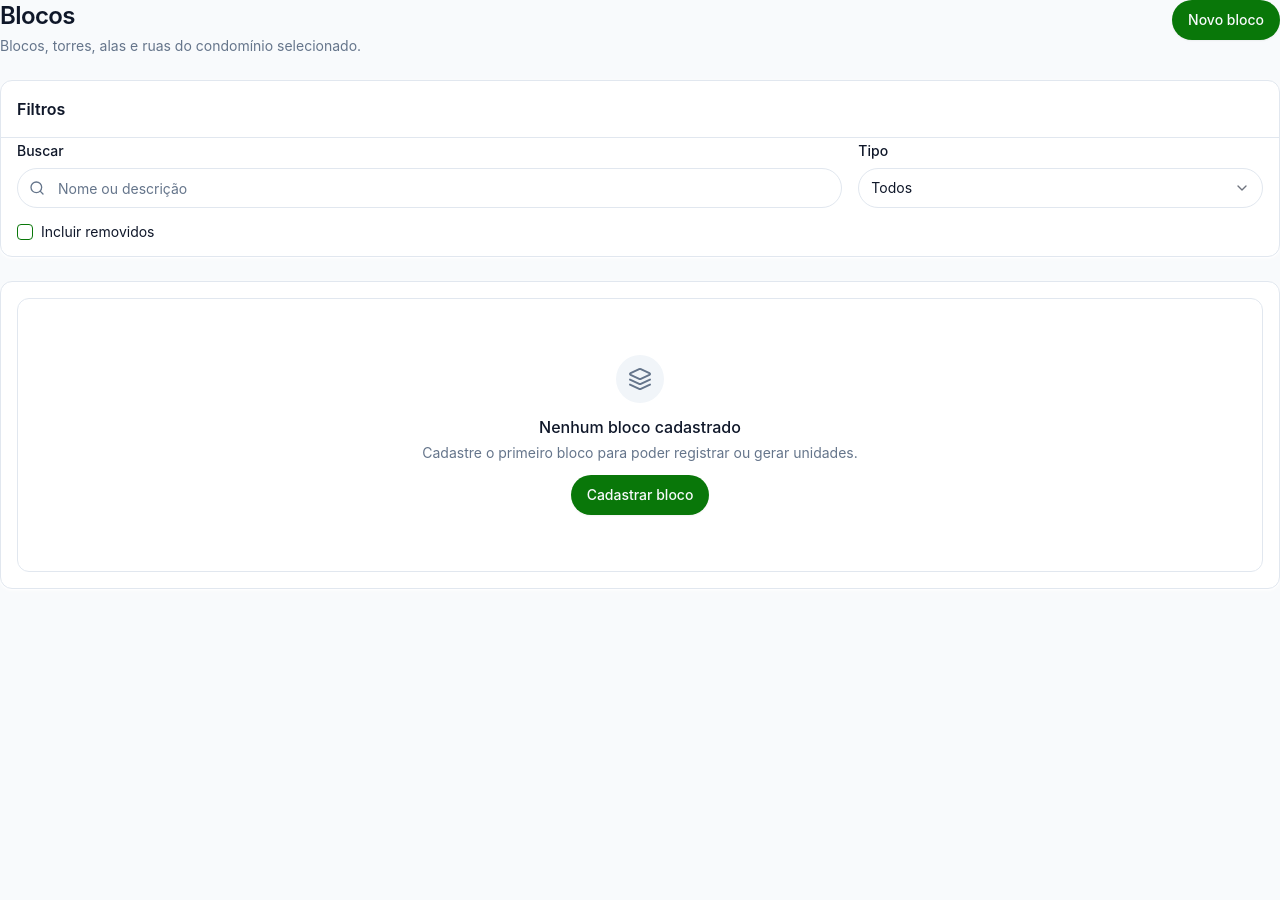
Scenario: Cadastro de bloco › 409 sem campo vira mensagem do formulário e preserva o preenchido
This screenshot has width=1280, height=900.
Check: the text "Nenhum bloco cadastrado" is shown, box [539, 417, 741, 437]
Step 1. Click the button "Cadastrar bloco" → (640, 495), box [571, 475, 709, 515]
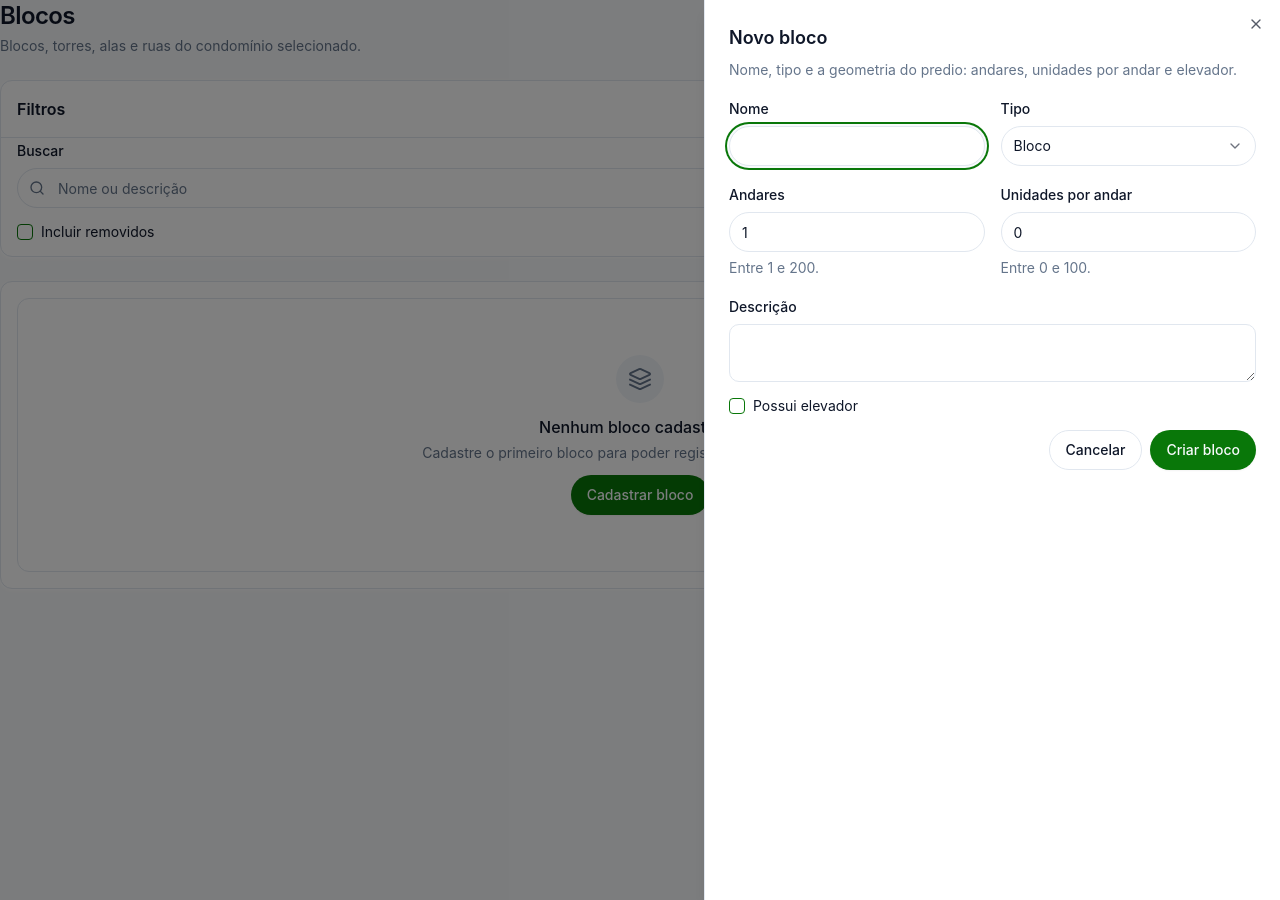
Step 2. Type "Torre A" into the field labelled "Nome" → (857, 146), box [729, 126, 984, 166]
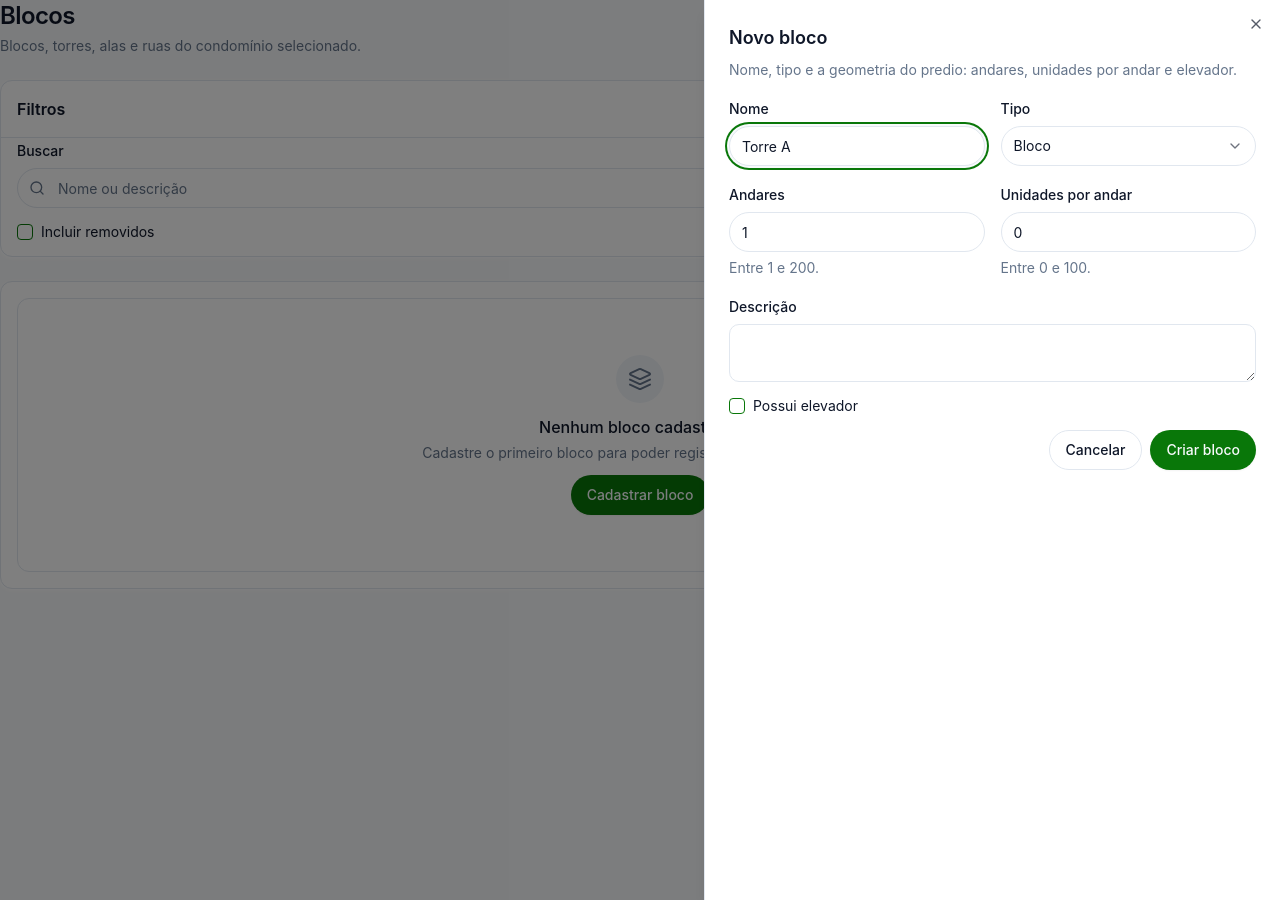
Step 3. Type "3" into the field labelled "Andares" → (857, 232), box [729, 212, 984, 252]
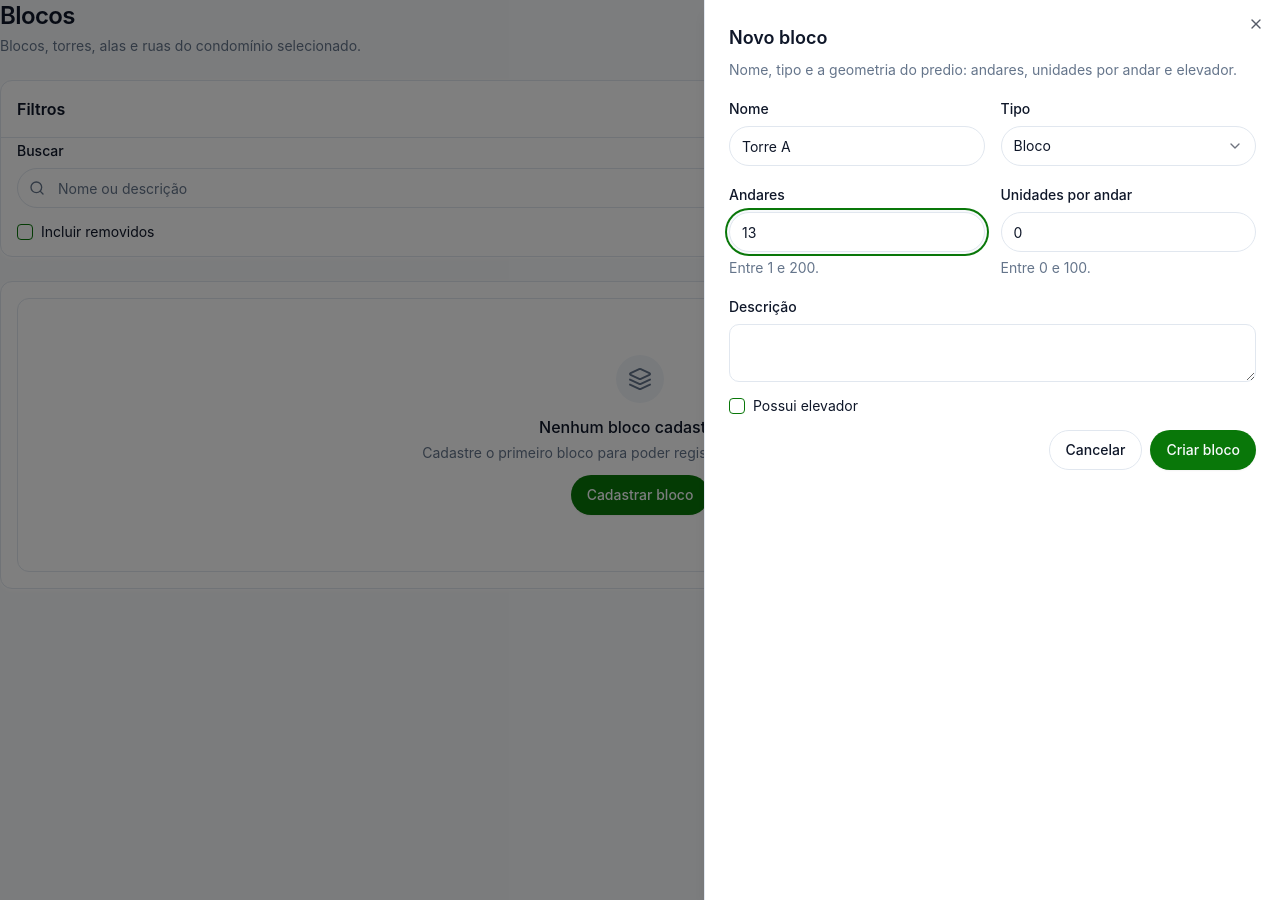
Step 4. Click the button "Criar bloco" → (1203, 450), box [1150, 430, 1256, 470]
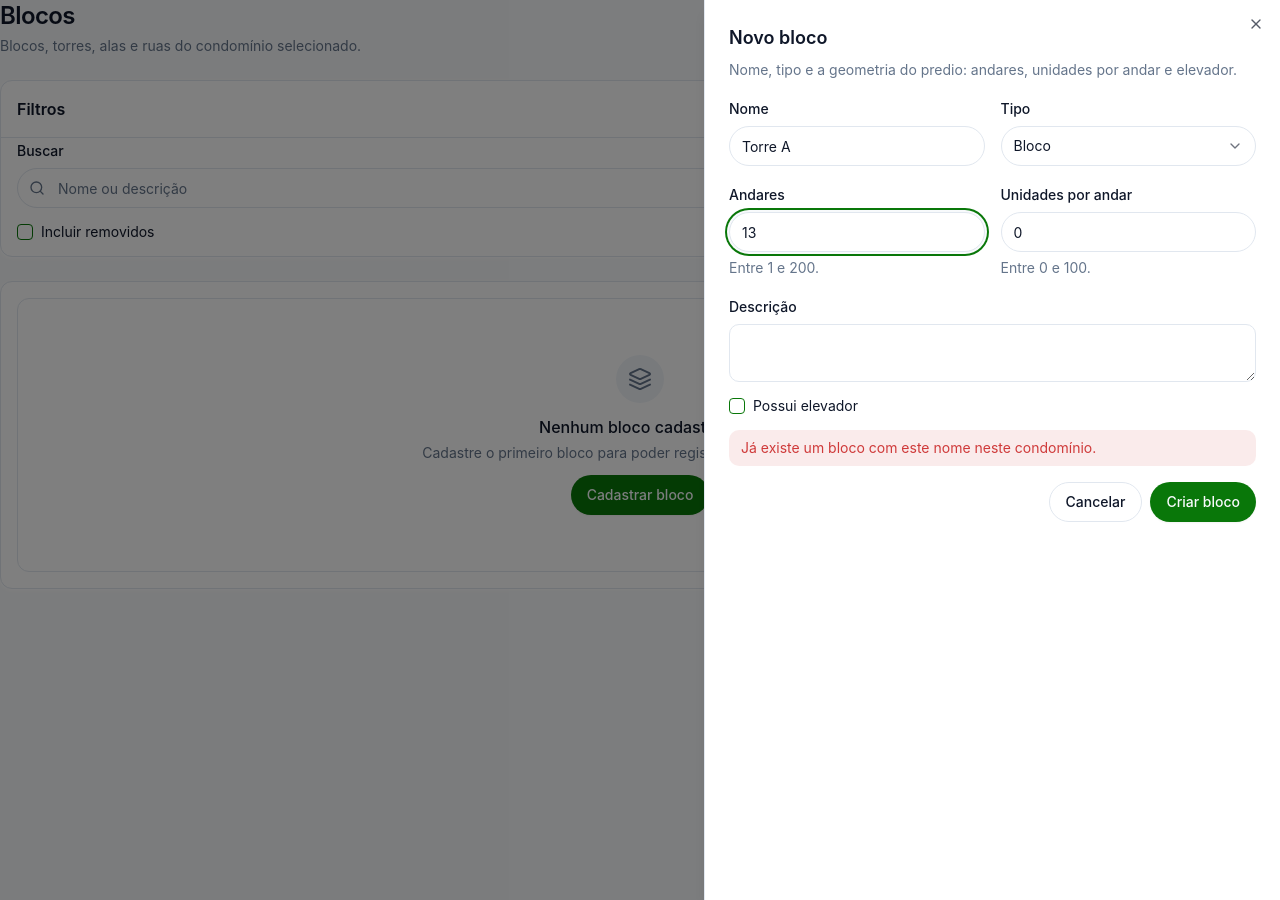
Check: the message reads "Já existe um bloco com este nome neste condomínio.", box [741, 439, 1096, 456]
